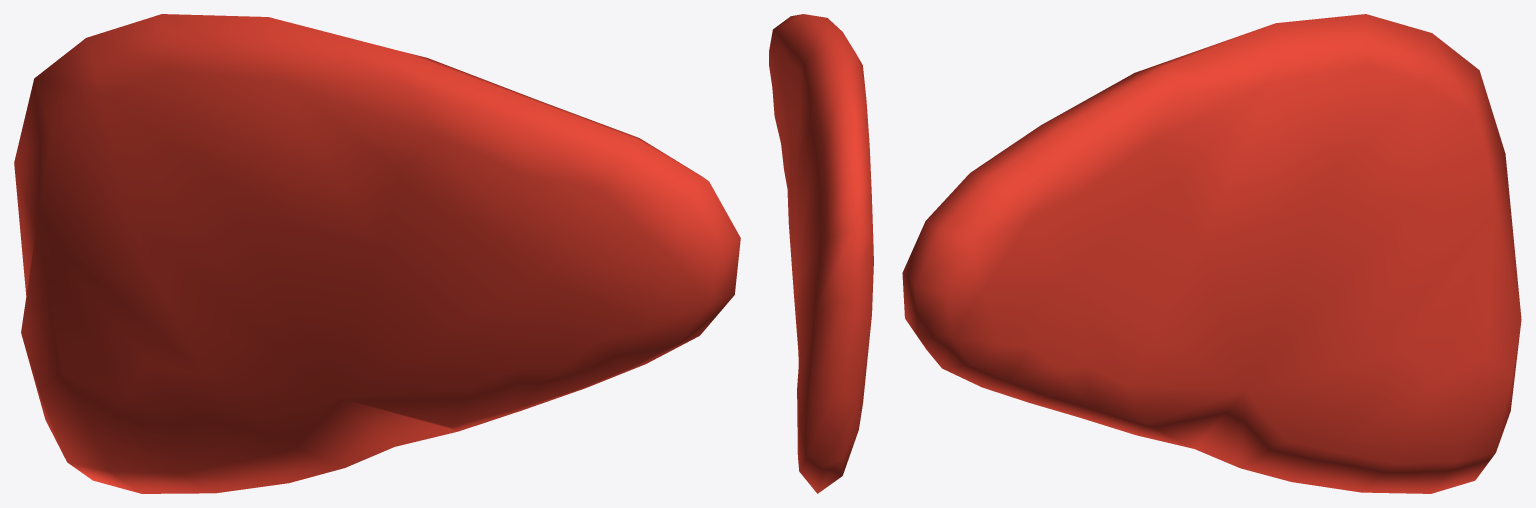
Rendered from Flexor_digiti_minimi-Insertion.l_Generated_Mesh_From_X3D.573.glb.
The picture shows the model from 3 angles, left to right: view 1: azimuth 30°, elevation 25°; view 2: azimuth 150°, elevation 25°; view 3: azimuth 270°, elevation 25°; orthographic projection. The views are drawn at different scales.
Visible parts, largest first — view 1: Flexor_digiti_minimi-Insertion.l_Generated_Mesh_From_X3D.573; view 2: Flexor_digiti_minimi-Insertion.l_Generated_Mesh_From_X3D.573; view 3: Flexor_digiti_minimi-Insertion.l_Generated_Mesh_From_X3D.573.
Part boxes in pixels (<box>): Flexor_digiti_minimi-Insertion.l_Generated_Mesh_From_X3D.573: <box>14,14,740,493</box>; Flexor_digiti_minimi-Insertion.l_Generated_Mesh_From_X3D.573: <box>769,14,873,493</box>; Flexor_digiti_minimi-Insertion.l_Generated_Mesh_From_X3D.573: <box>902,14,1521,493</box>.
Bounding box in the file's own units: 0.00237 × 0.00281 × 0.00322.
